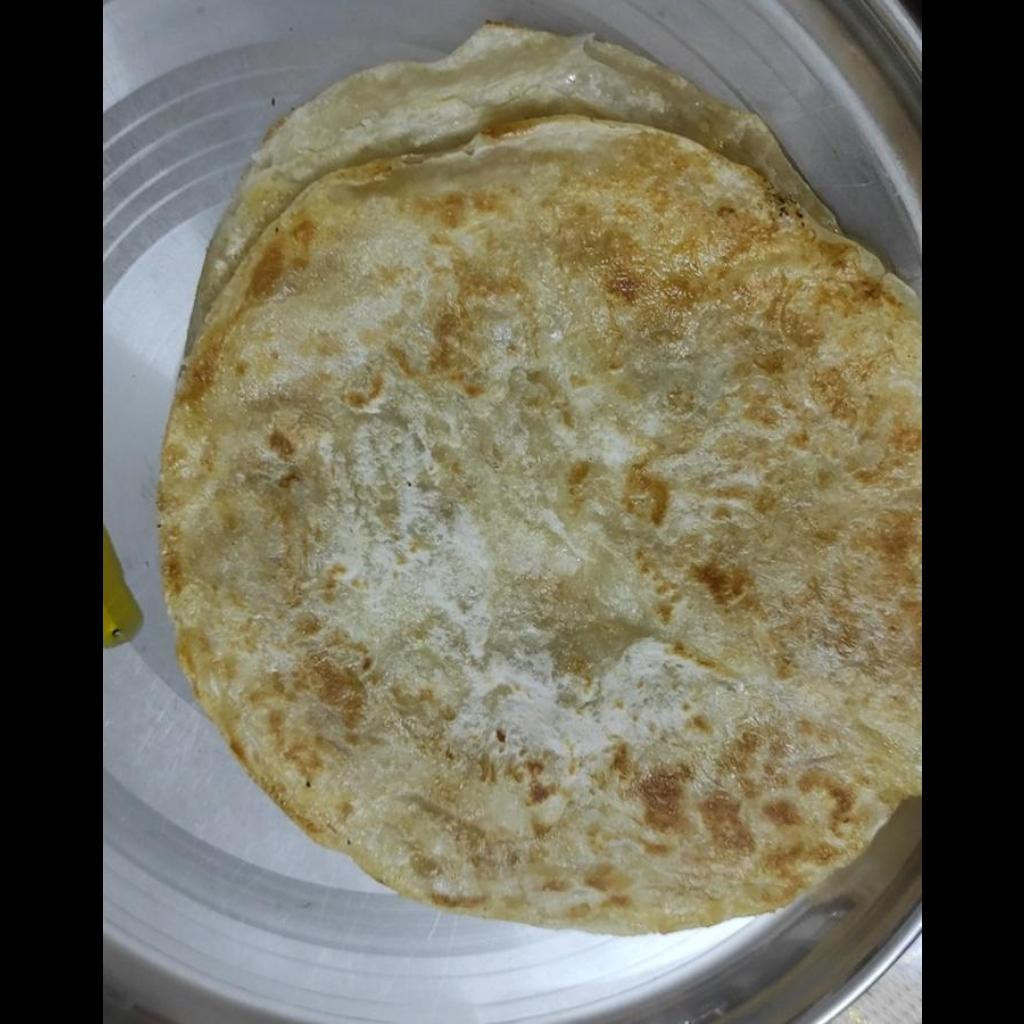ruti: (154, 25, 920, 929)
